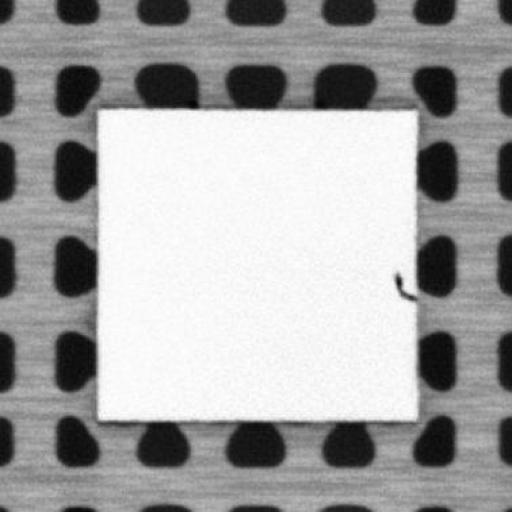DIE_INK: (391, 270, 412, 300)
